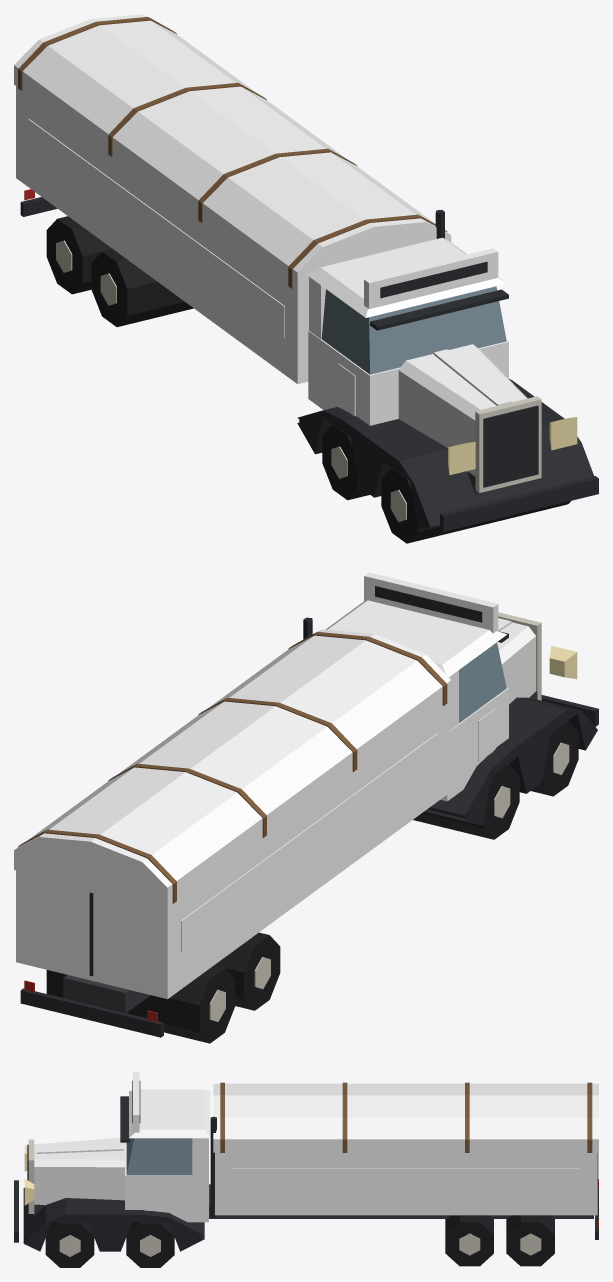
Rendered from heavy_truck.glb.
3 renders of one model, top to bottom at view 1: azimuth 30°, elevation 25°; view 2: azimuth 150°, elevation 25°; view 3: azimuth 270°, elevation 25°, orthographic. The views are drawn at different scales.
Visible parts, largest first — view 1: model; view 2: model; view 3: model.
Part boxes in pixels (bbox=[...]): model: bbox=[14, 14, 598, 543]; model: bbox=[14, 572, 598, 1043]; model: bbox=[14, 1072, 598, 1267].
Bounding box in the file's own units: 2.7 × 3.34 × 12.
